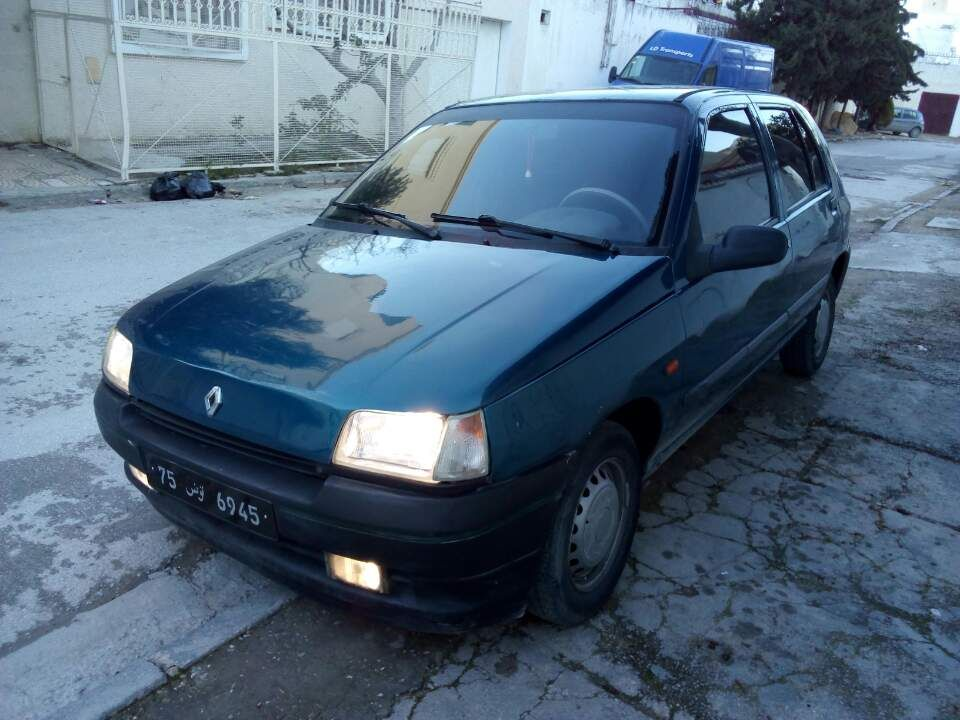LP: (142, 445, 279, 538)
